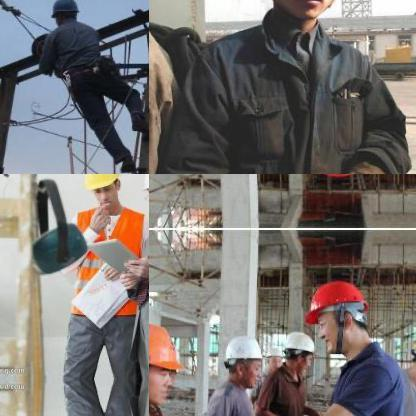Helmet: (307, 276, 371, 352), (244, 0, 367, 28), (149, 319, 180, 400), (220, 329, 264, 384), (81, 174, 126, 212), (282, 330, 314, 372), (47, 0, 82, 28), (265, 342, 283, 374), (406, 328, 415, 377), (306, 174, 372, 180)
